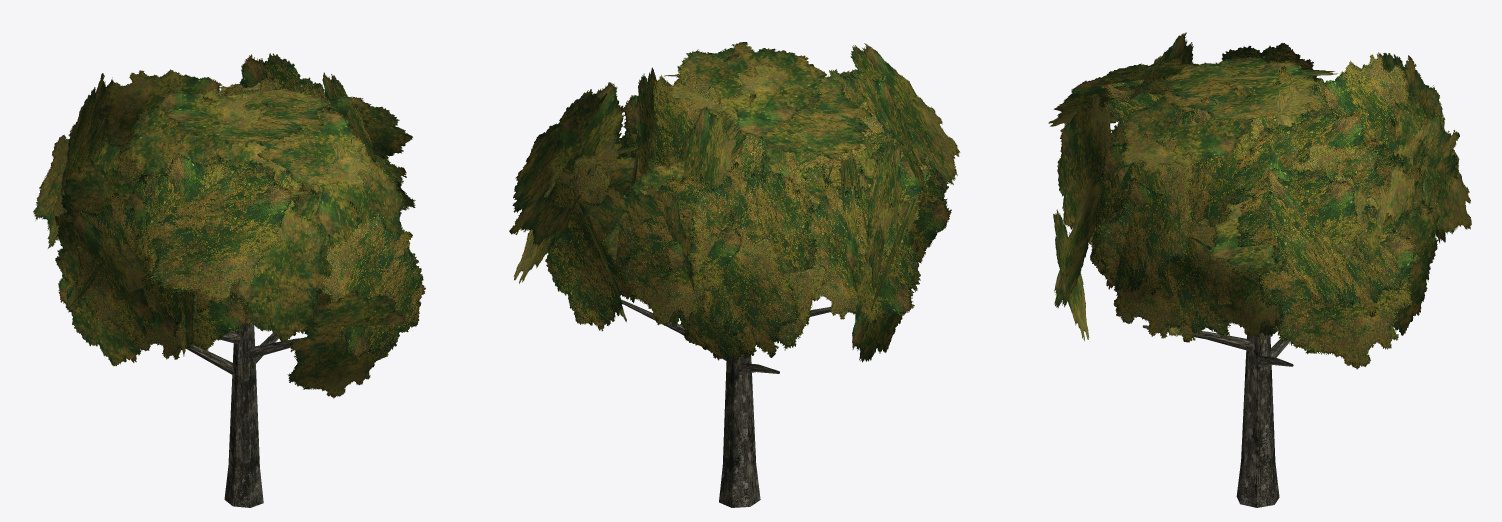
File: tree4.gltf
3 views of the same model, side by side, from view 1: azimuth 30°, elevation 25°; view 2: azimuth 150°, elevation 25°; view 3: azimuth 270°, elevation 25° (orthographic). The views are drawn at different scales.
Parts seen in each view (by area): view 1: tree4_new; view 2: tree4_new; view 3: tree4_new.
Part boxes in pixels (x1,y1,x2,y2): tree4_new: (33,53,425,507); tree4_new: (509,42,960,507); tree4_new: (1048,32,1471,507).
Bounding box in the file's own units: 40.8 × 43.3 × 40.8.
Materials: 2 (2 with a texture image).
